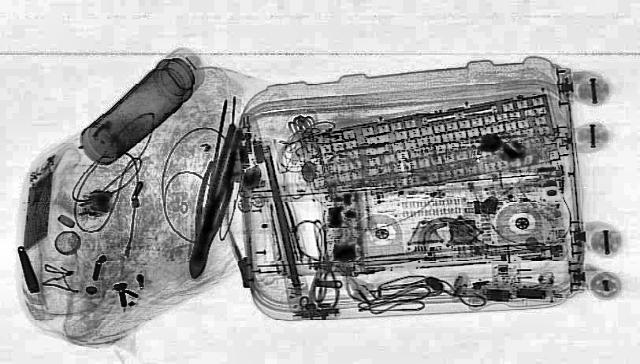Pliers: (178, 129, 244, 279)
